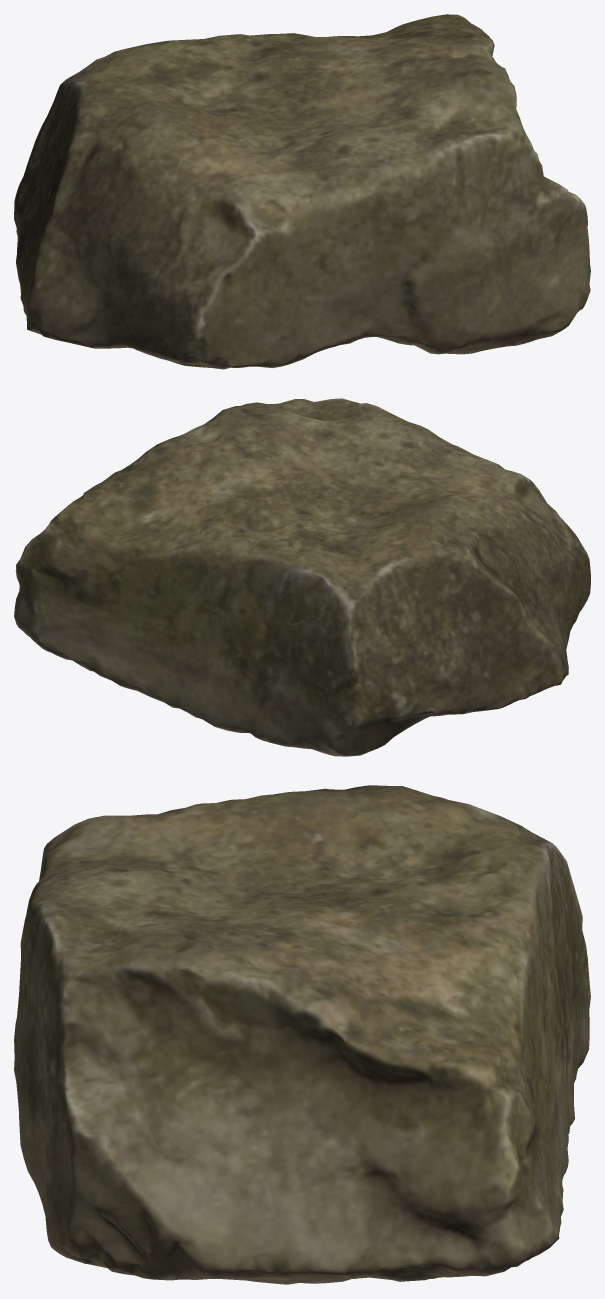
Rendered from rock_02_lod0.glb.
3 renders of one model, top to bottom at view 1: azimuth 30°, elevation 25°; view 2: azimuth 150°, elevation 25°; view 3: azimuth 270°, elevation 25°, orthographic. The views are drawn at different scales.
Visible parts, largest first — view 1: Rock_02_LOD0; view 2: Rock_02_LOD0; view 3: Rock_02_LOD0.
Part boxes in pixels (bbox=[...]): Rock_02_LOD0: bbox=[14, 14, 590, 369]; Rock_02_LOD0: bbox=[14, 398, 590, 756]; Rock_02_LOD0: bbox=[14, 785, 590, 1284].
Bounding box in the file's own units: 2.49 × 1.1 × 1.79.
1 material, 1 textured.
